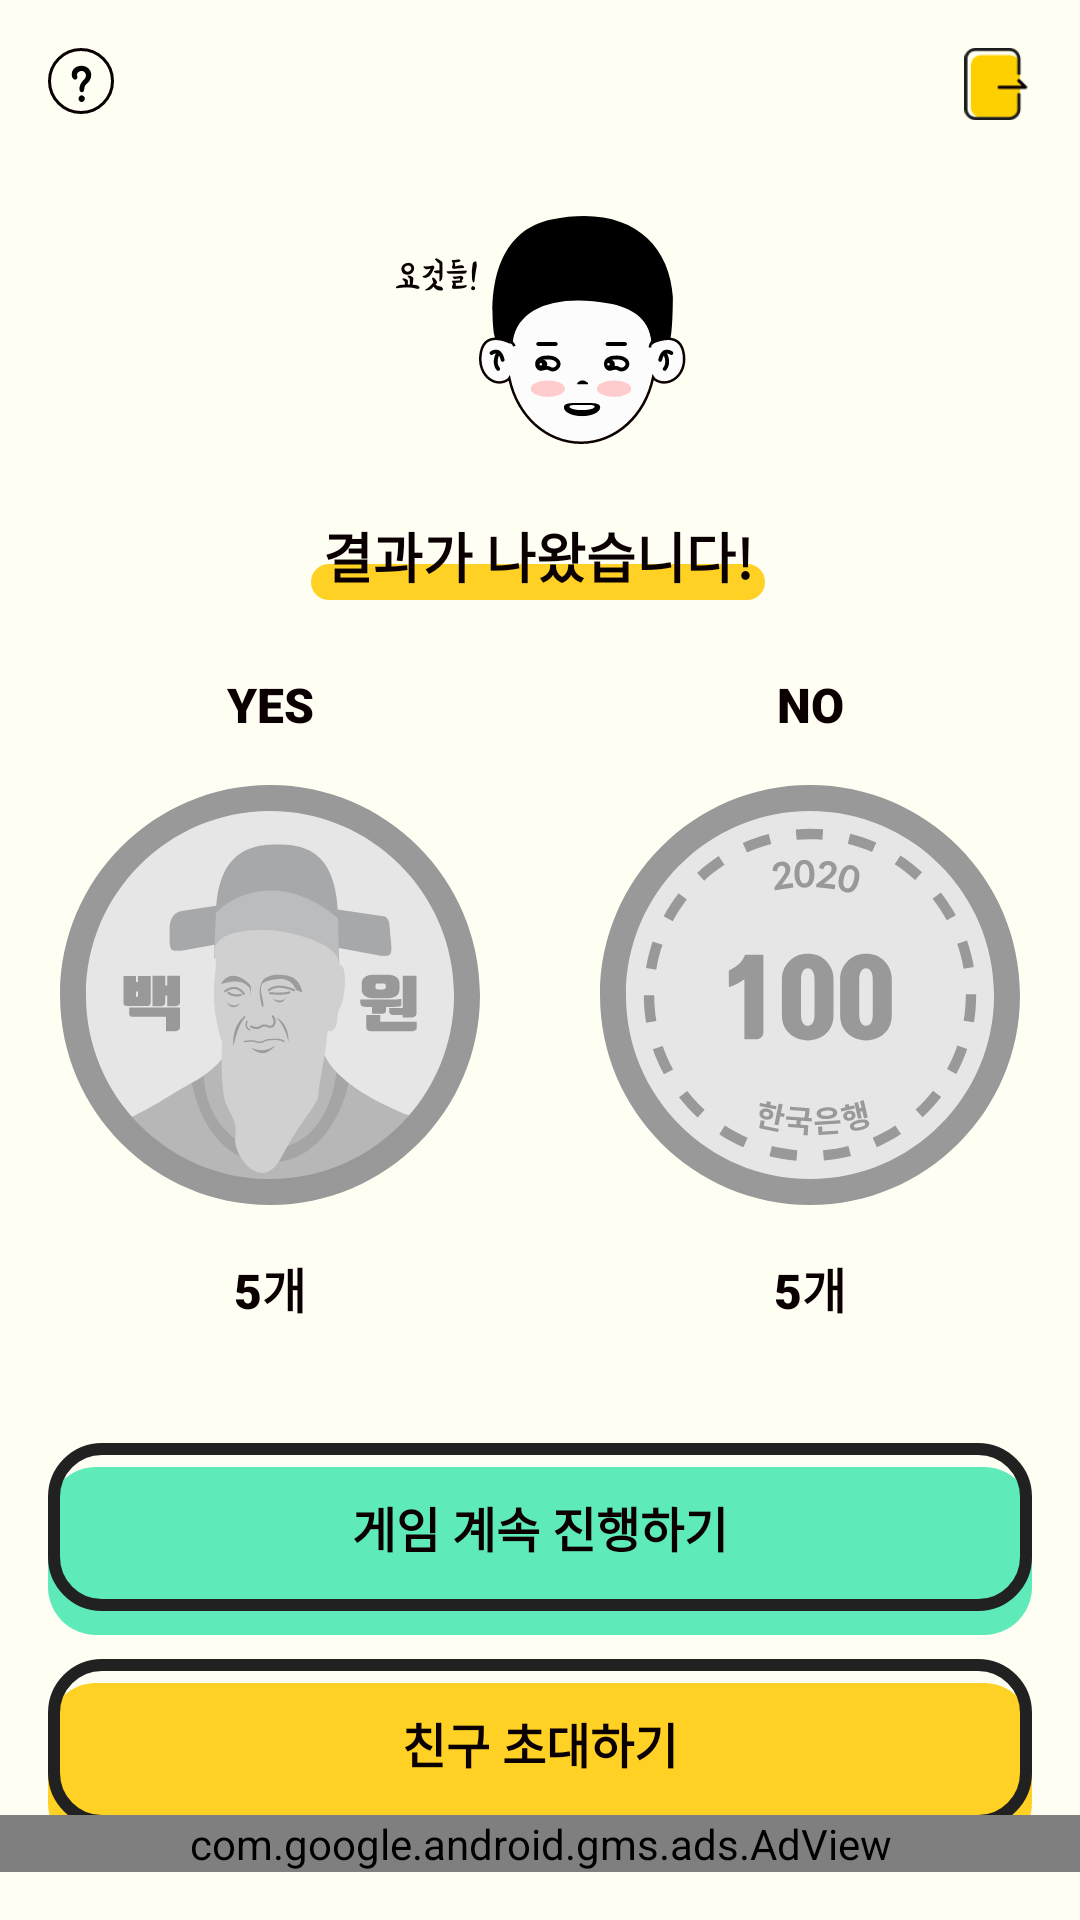

Point at icon controls on the screen. Image size 1080 x 1920, points as point (x, y).
man: point (541, 330)
out: point (996, 84)
question: point (81, 81)
